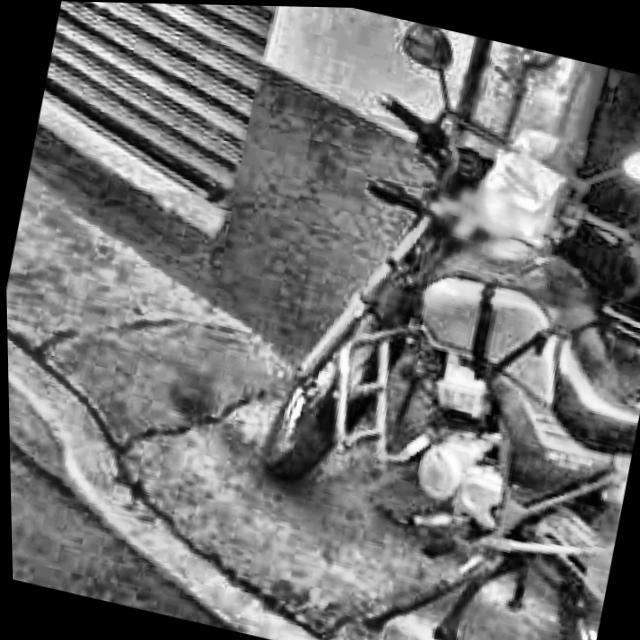motorcycle: (205, 4, 640, 640)
